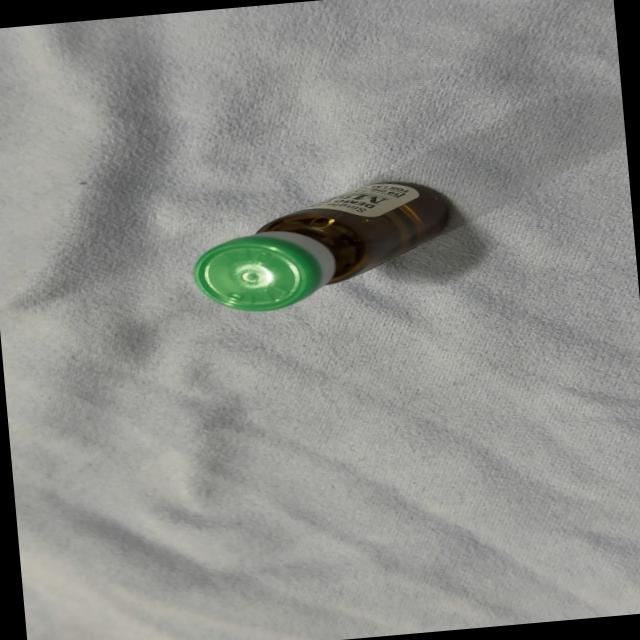midazolm: (192, 178, 452, 313)
